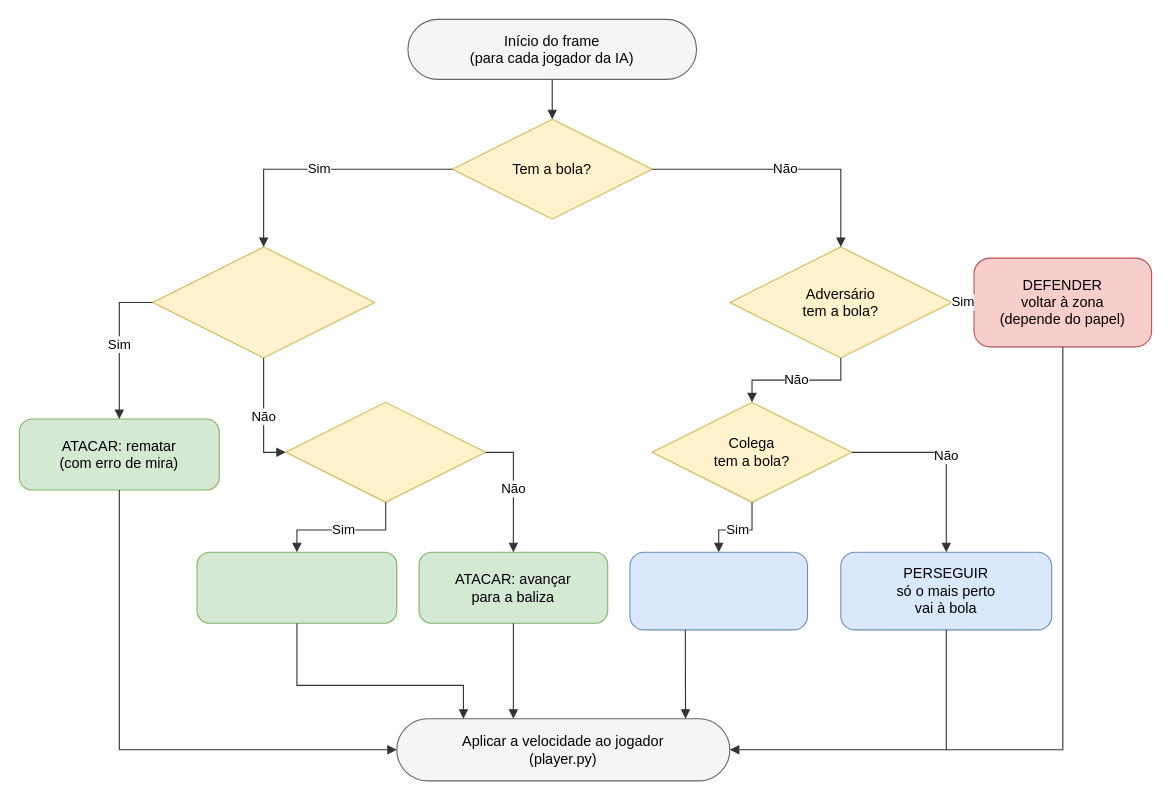
This 1171x800 diagram has some shape labels left out. Each missing label, with the box of its shape:
Adversário no caminho?: (285, 401, 486, 502)
APOIAR ir para a posição tática: (629, 551, 808, 630)
ATACAR: passar ao colega mais livre: (196, 551, 397, 623)
Perto da baliza e pode rematar?: (152, 246, 375, 358)
